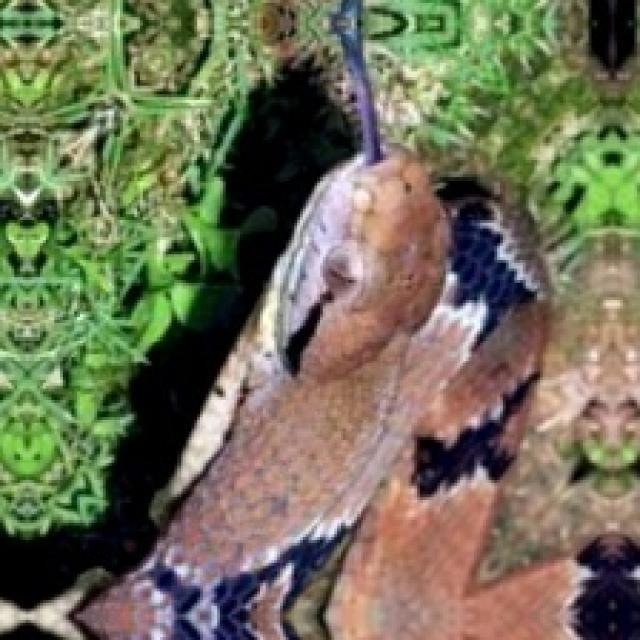dog-toothed cat snake: (77, 0, 543, 637)
